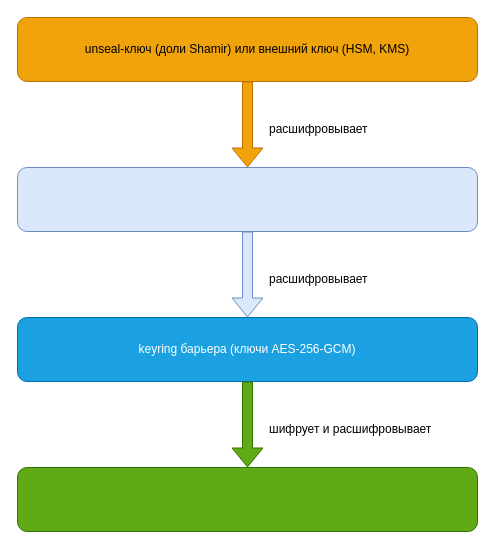
Image size: 495x549. Some labels were removed from this diagram. The shapes that lost their labels are listed below. From the top down, each one's centre as x and y in pixels, then its label:
At [247,199]: "root-ключ (хранится в хранилище в зашифрованном виде)".
At [247,499]: "все данные в бэкенде хранения".
